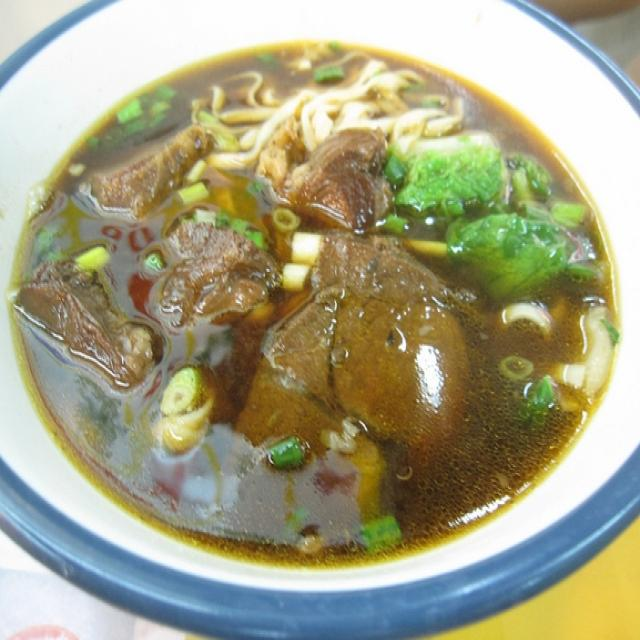面条主食: (31, 21, 619, 598)
